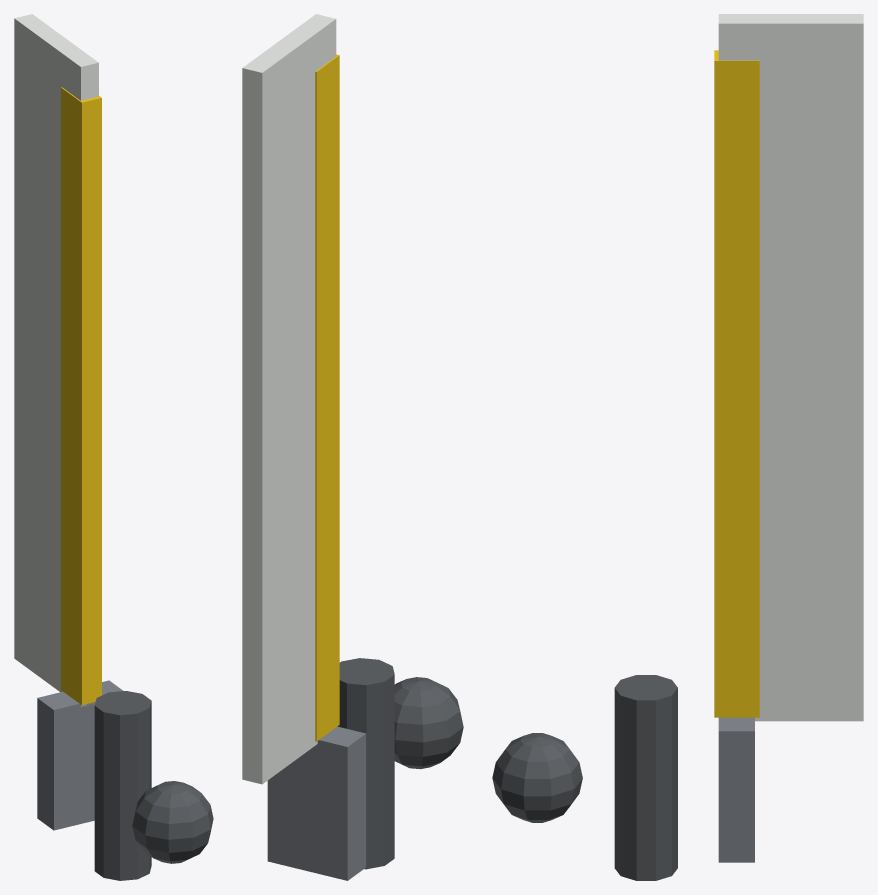
Rendered from weapon-scrapblade.glb.
3 renders of one model, left to right at view 1: azimuth 30°, elevation 25°; view 2: azimuth 150°, elevation 25°; view 3: azimuth 270°, elevation 25°, orthographic. The views are drawn at different scales.
Parts seen in each view (by area): view 1: blade, edge, grip, guard, pommel; view 2: blade, edge, guard, grip, pommel; view 3: blade, edge, grip, pommel, guard.
Boxes of the visible parts, x1=… form: blade: x1=14, y1=14, x2=98, y2=706; edge: x1=61, y1=87, x2=101, y2=704; grip: x1=94, y1=691, x2=151, y2=880; guard: x1=37, y1=680, x2=123, y2=830; pommel: x1=132, y1=781, x2=213, y2=863; blade: x1=242, y1=14, x2=336, y2=784; edge: x1=315, y1=54, x2=339, y2=741; guard: x1=267, y1=726, x2=366, y2=880; grip: x1=337, y1=658, x2=394, y2=869; pommel: x1=394, y1=677, x2=463, y2=769; blade: x1=718, y1=14, x2=863, y2=721; edge: x1=714, y1=50, x2=759, y2=717; grip: x1=614, y1=675, x2=677, y2=880; pommel: x1=492, y1=733, x2=582, y2=822; guard: x1=718, y1=717, x2=754, y2=862.
Bounding box in the file's own units: 0.1 × 1.04 × 0.41.
